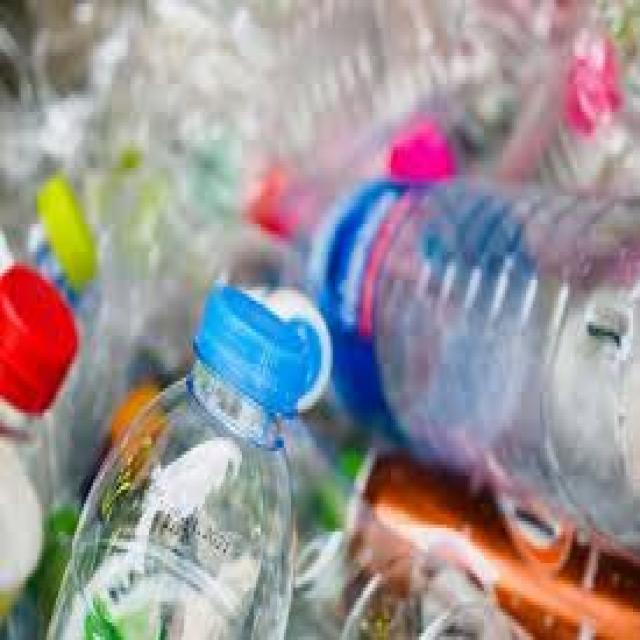Plastic: (297, 175, 640, 569), (54, 280, 316, 640), (0, 262, 83, 640)
